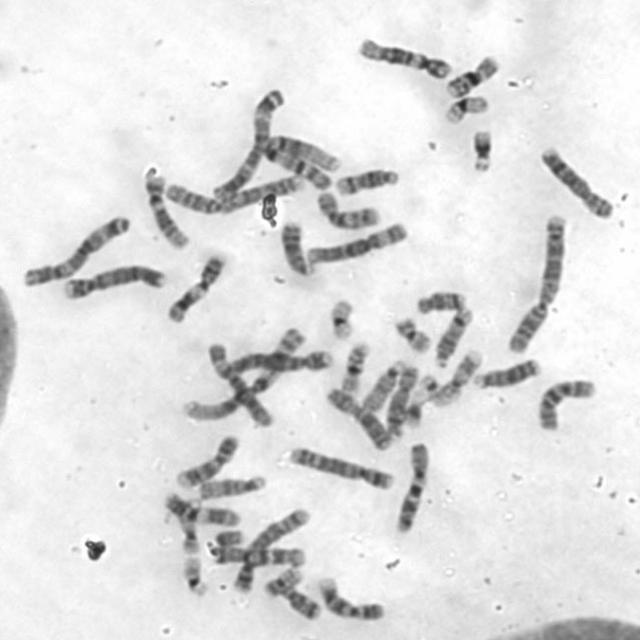A1: (181, 325, 308, 425), (263, 133, 344, 192)
A2: (508, 212, 567, 356), (164, 174, 308, 216)
A3: (212, 87, 288, 202), (21, 214, 131, 288)
B4: (62, 262, 168, 302), (225, 347, 333, 376)
B5: (231, 506, 311, 596), (289, 446, 395, 491)
C10: (536, 376, 598, 434), (315, 190, 382, 230)
C11: (166, 255, 228, 325), (165, 493, 243, 527)
C12: (357, 35, 453, 80), (144, 176, 192, 250)
C6: (206, 340, 275, 430), (306, 222, 411, 263)
C7: (394, 441, 431, 536), (211, 545, 310, 569)
C8: (539, 143, 615, 221), (383, 363, 421, 435)
C9: (173, 434, 243, 488), (318, 574, 388, 623)
D13: (471, 356, 543, 392), (278, 220, 310, 278)
D14: (433, 306, 474, 370), (335, 166, 401, 199)
D15: (360, 360, 405, 414), (196, 473, 269, 504)
E16: (443, 53, 501, 101), (338, 338, 372, 394)
E17: (177, 498, 202, 556)
E18: (280, 585, 322, 623), (415, 287, 468, 316)
F19: (443, 95, 491, 126), (328, 298, 358, 339)
F20: (394, 315, 432, 356), (262, 565, 306, 599)
G21: (470, 127, 496, 175), (402, 390, 429, 428)
G22: (181, 556, 208, 598), (419, 373, 448, 408)
X: (326, 385, 394, 453)
Y: (214, 527, 247, 547)
